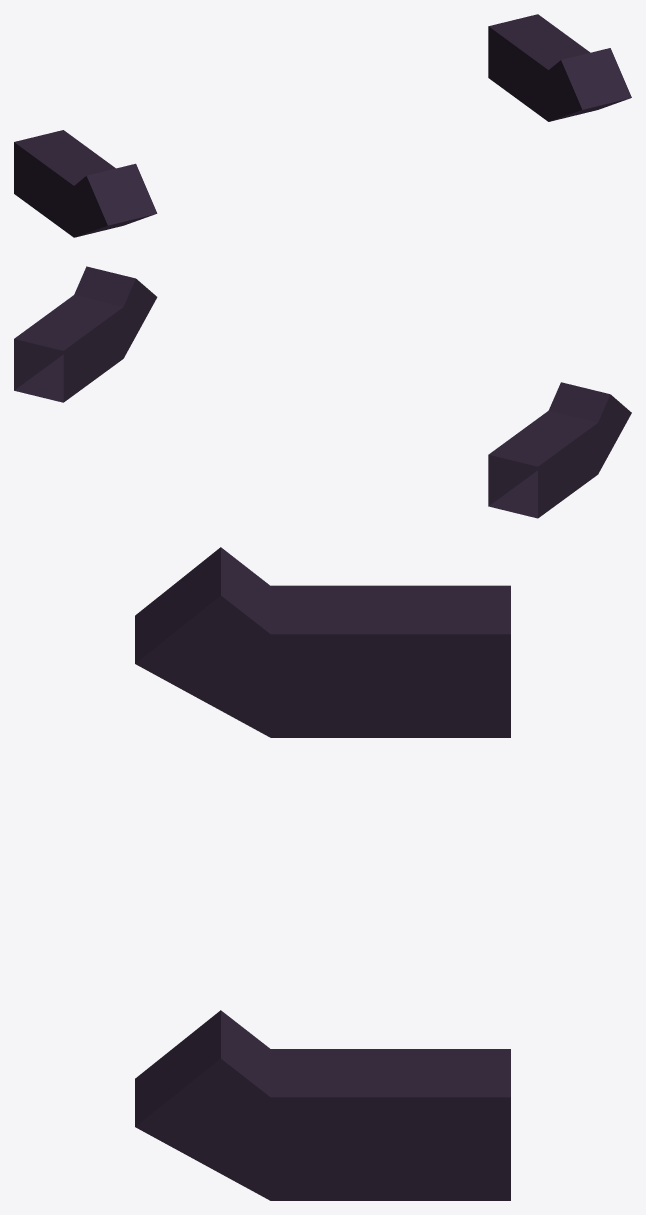
The model's file is kacilica.glb.
3 views of the same model, one above another, from view 1: azimuth 30°, elevation 25°; view 2: azimuth 150°, elevation 25°; view 3: azimuth 270°, elevation 25° (orthographic). The views are drawn at different scales.
Visible parts, largest first — view 1: Cube.018; view 2: Cube.018; view 3: Cube.018.
Part boxes in pixels (box(x1,y1,x2,y2)): Cube.018: box(14, 14, 631, 237); Cube.018: box(14, 266, 631, 518); Cube.018: box(135, 547, 510, 1200).
Bounding box in the file's own units: 2.56 × 0.3325 × 0.795.
